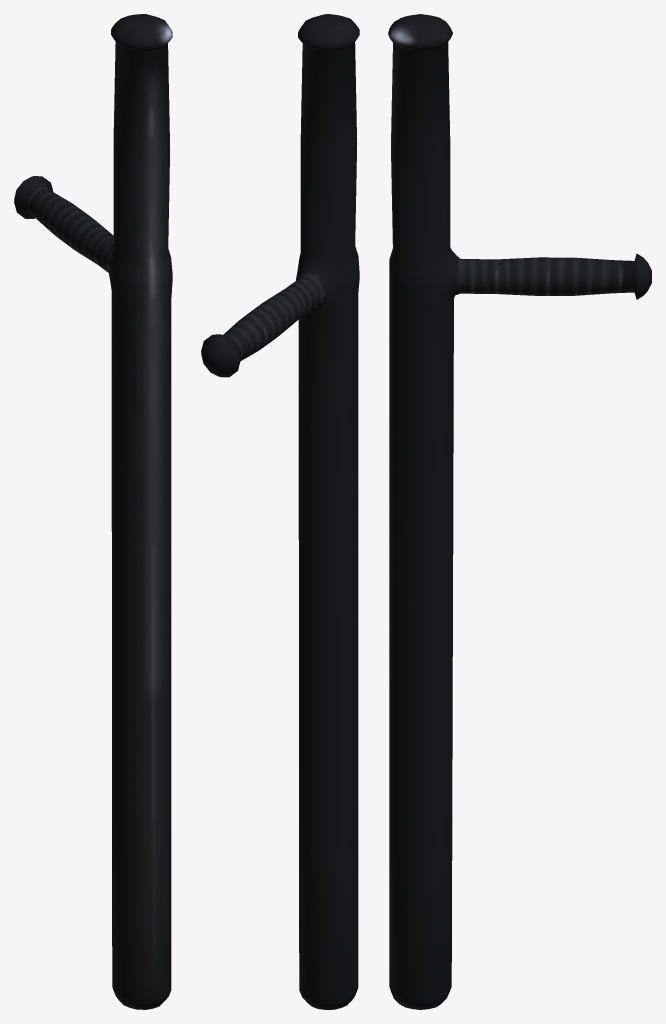
3 views of the same model, side by side, from view 1: azimuth 30°, elevation 25°; view 2: azimuth 150°, elevation 25°; view 3: azimuth 270°, elevation 25° (orthographic).
Visible parts, largest first — view 1: Tonfa; view 2: Tonfa; view 3: Tonfa.
Part boxes in pixels (box(x1,y1,x2,y2)): Tonfa: box(14, 14, 172, 1009); Tonfa: box(201, 14, 359, 1009); Tonfa: box(388, 14, 651, 1009).
Size of the model in its own units: 2.18 by 37.07 by 8.99.
